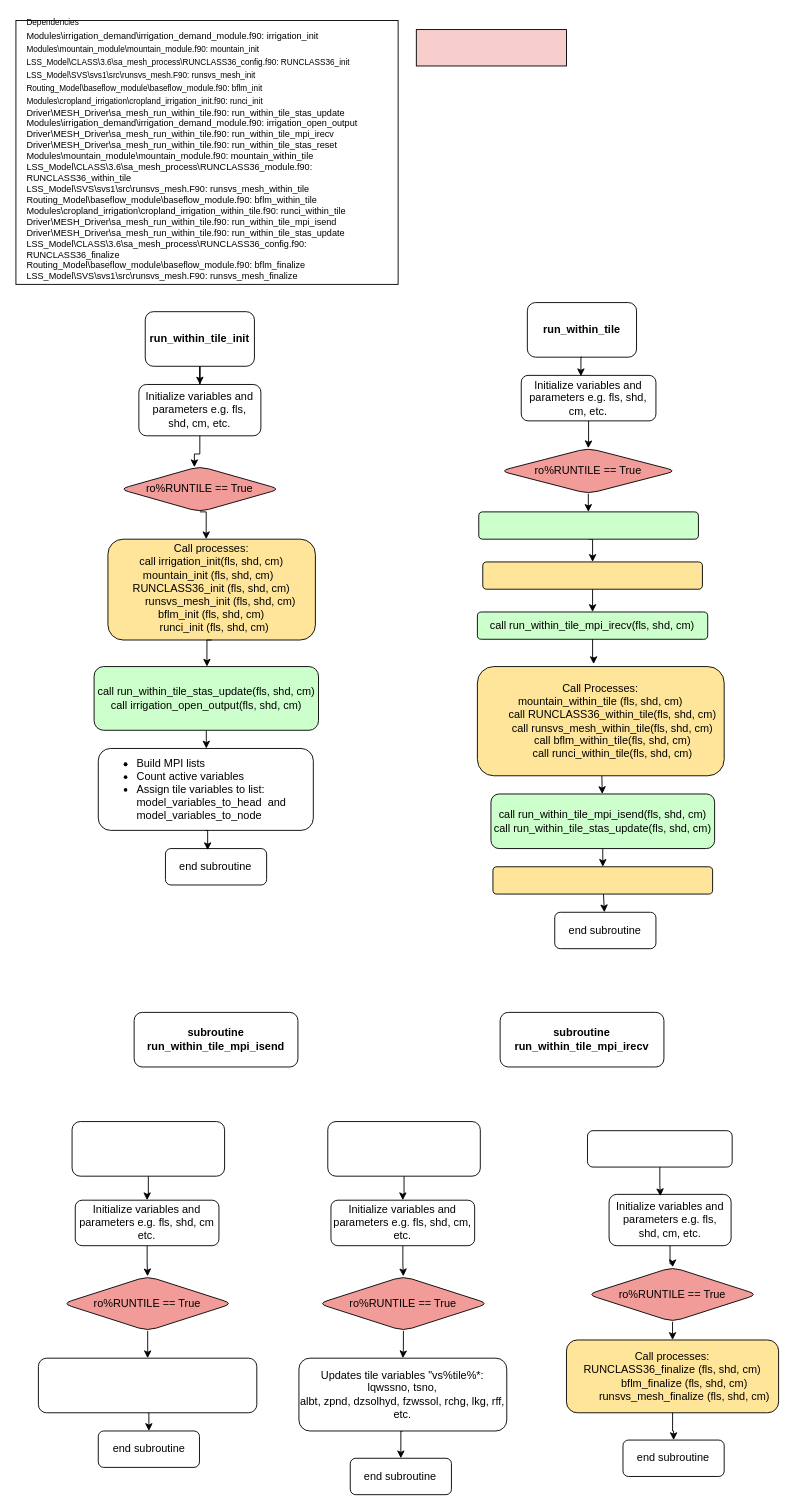
This 795x1511 diagram has some shape labels left out. Each missing label, with the box of its shape:
Assigns tile variables e.g. vs%tile%lqwsice to 0: (37, 1357, 257, 1413)
call irrigation_within_tile(fls, shd, cm): (482, 561, 702, 589)
call irrigation_write_output(fls, shd, cm): (492, 866, 713, 894)
call run_within_tile_stas_reset(fls, shd, cm): (478, 511, 698, 539)
run_within_tile_finalize: (587, 1130, 732, 1167)
run_within_tile_stas_reset: (71, 1121, 225, 1176)
run_within_tile_stas_update: (327, 1121, 480, 1176)
sa_mesh_run_within_tile: (415, 29, 566, 66)
